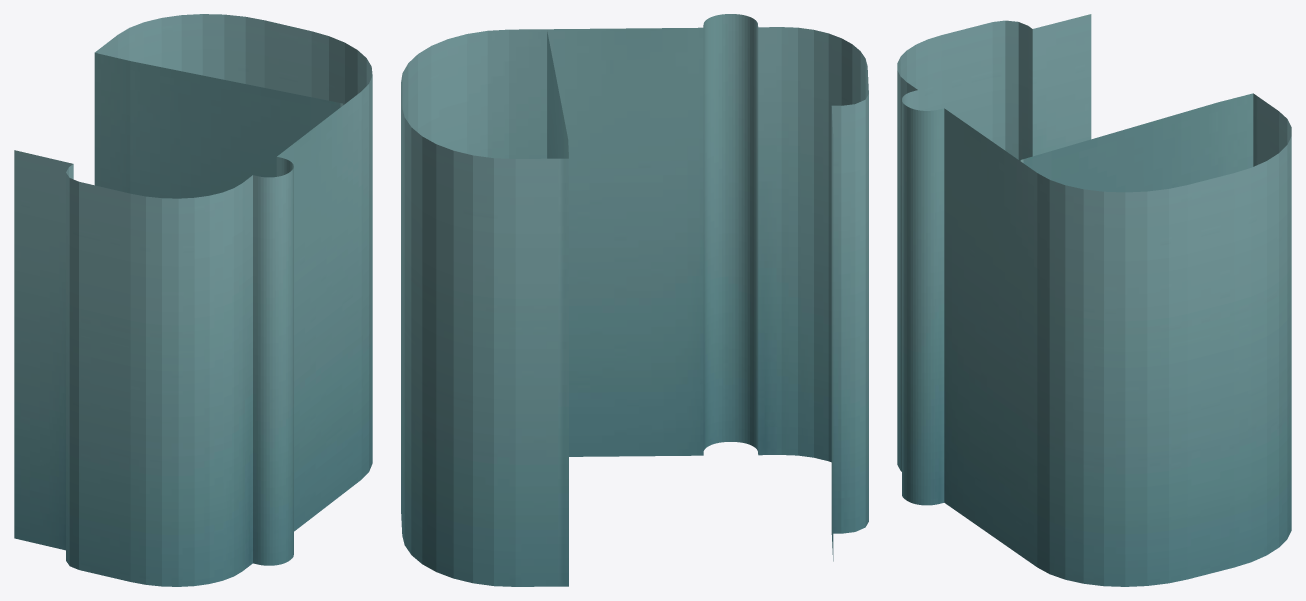
Rendered from structure_bottom.glb.
3 views of the same model, side by side, from view 1: azimuth 30°, elevation 25°; view 2: azimuth 150°, elevation 25°; view 3: azimuth 270°, elevation 25° (orthographic). The views are drawn at different scales.
Visible parts, largest first — view 1: Structure.bottom; view 2: Structure.bottom; view 3: Structure.bottom.
Part boxes in pixels (x1=…): Structure.bottom: x1=14, y1=14, x2=372, y2=586; Structure.bottom: x1=401, y1=14, x2=868, y2=586; Structure.bottom: x1=897, y1=14, x2=1291, y2=586.
Size of the model in its own units: 22.36 by 23.06 by 20.89.
1 material, 1 textured.
